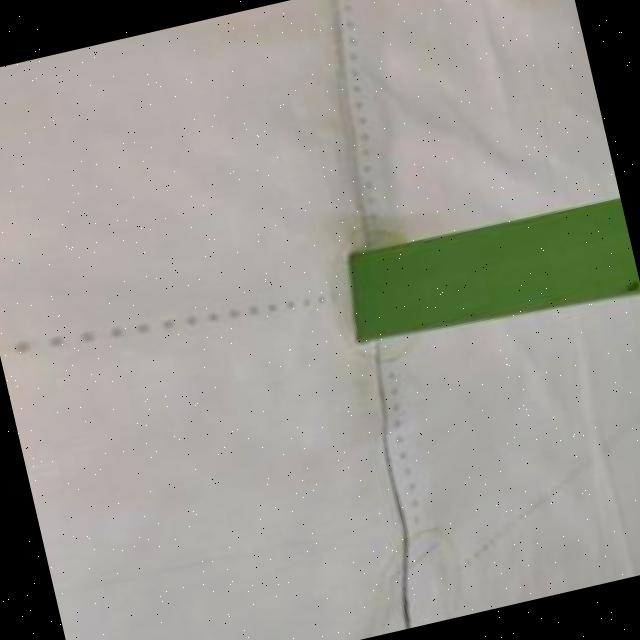greenbox: (333, 188, 640, 361)
